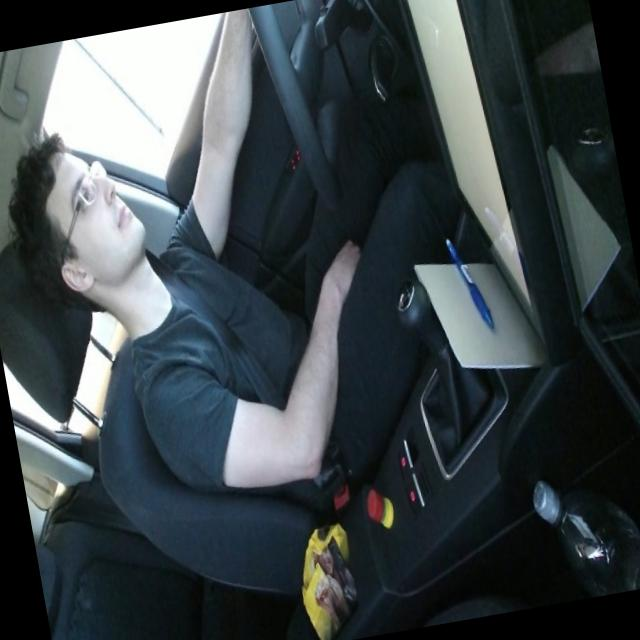pen: (442, 228, 494, 335)
